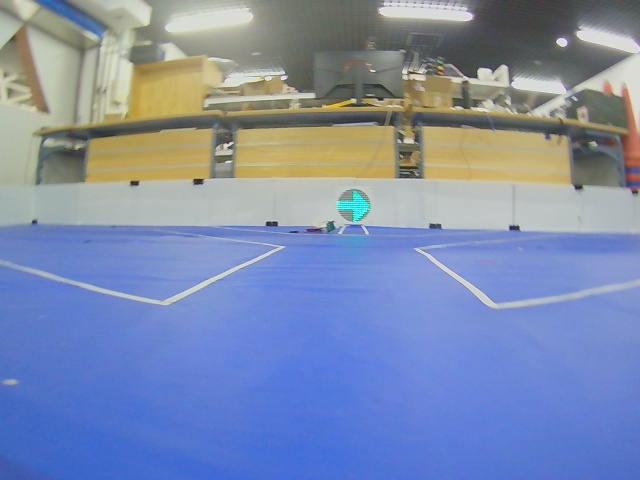right_green: (336, 189, 370, 222)
